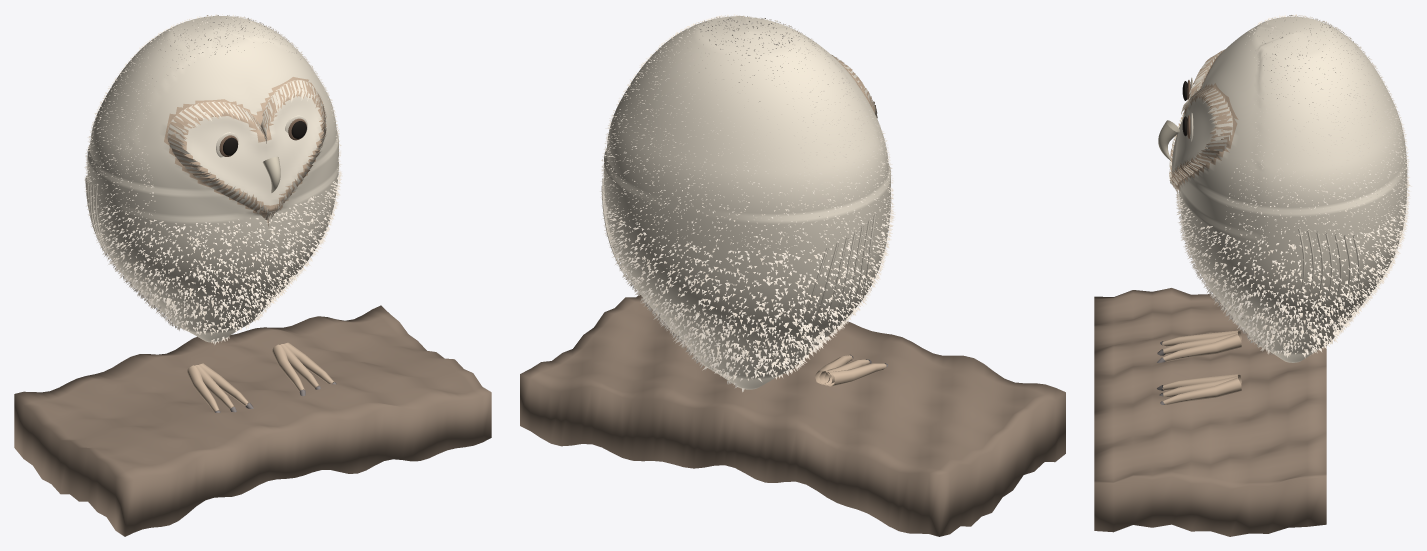
The model's file is owl172_run83_organic_integrated_face_ART_PENDING.glb.
The picture shows the model from 3 angles, left to right: view 1: azimuth 30°, elevation 25°; view 2: azimuth 150°, elevation 25°; view 3: azimuth 270°, elevation 25°; orthographic projection. The views are drawn at different scales.
Parts seen in each view (by area): view 1: solid eroded mature eucalyptus hollow ledge, one continuous organic juvenile loft, integrated facial feather ruff batch 1, integrated facial feather ruff batch 0, curved second-down filament batch 3, curved second-down filament batch 1, curved second-down filament batch 2, curved second-down filament batch 0, curved second-down filament batch 4; view 2: one continuous organic juvenile loft, solid eroded mature eucalyptus hollow ledge, curved second-down filament batch 4, curved second-down filament batch 3, curved second-down filament batch 0, curved second-down filament batch 1, curved second-down filament batch 2, short juvenile toe -1_0; view 3: one continuous organic juvenile loft, solid eroded mature eucalyptus hollow ledge, curved second-down filament batch 3, curved second-down filament batch 2, curved second-down filament batch 4, curved second-down filament batch 0, curved second-down filament batch 1, integrated facial feather ruff batch 1, integrated facial feather ruff batch 0, short juvenile toe -1_2, short juvenile toe 1_2, short juvenile toe -1_0 (+4 smaller).
Boxes of the visible parts, bbox=[...] form: solid eroded mature eucalyptus hollow ledge: bbox=[14, 305, 491, 536]; one continuous organic juvenile loft: bbox=[87, 16, 338, 342]; integrated facial feather ruff batch 1: bbox=[167, 79, 326, 227]; integrated facial feather ruff batch 0: bbox=[167, 80, 326, 226]; curved second-down filament batch 3: bbox=[84, 14, 342, 342]; curved second-down filament batch 1: bbox=[84, 15, 341, 342]; curved second-down filament batch 2: bbox=[84, 15, 342, 344]; curved second-down filament batch 0: bbox=[84, 16, 341, 343]; curved second-down filament batch 4: bbox=[84, 15, 341, 341]; one continuous organic juvenile loft: bbox=[603, 16, 891, 389]; solid eroded mature eucalyptus hollow ledge: bbox=[520, 294, 1065, 536]; curved second-down filament batch 4: bbox=[601, 15, 894, 392]; curved second-down filament batch 3: bbox=[601, 15, 893, 391]; curved second-down filament batch 0: bbox=[600, 15, 895, 385]; curved second-down filament batch 1: bbox=[600, 14, 894, 379]; curved second-down filament batch 2: bbox=[600, 14, 894, 387]; short juvenile toe -1_0: bbox=[824, 363, 886, 386]; one continuous organic juvenile loft: bbox=[1171, 16, 1407, 362]; solid eroded mature eucalyptus hollow ledge: bbox=[1094, 288, 1326, 536]; curved second-down filament batch 3: bbox=[1174, 15, 1411, 356]; curved second-down filament batch 2: bbox=[1176, 15, 1409, 353]; curved second-down filament batch 4: bbox=[1178, 15, 1409, 354]; curved second-down filament batch 0: bbox=[1176, 15, 1410, 354]; curved second-down filament batch 1: bbox=[1176, 14, 1409, 357]; integrated facial feather ruff batch 1: bbox=[1169, 49, 1232, 197]; integrated facial feather ruff batch 0: bbox=[1169, 49, 1232, 197]; short juvenile toe -1_2: bbox=[1163, 334, 1241, 361]; short juvenile toe 1_2: bbox=[1163, 377, 1241, 404]; short juvenile toe -1_0: bbox=[1163, 330, 1241, 346].
Size of the model in its own units: 2.24 by 2.33 by 1.6.
